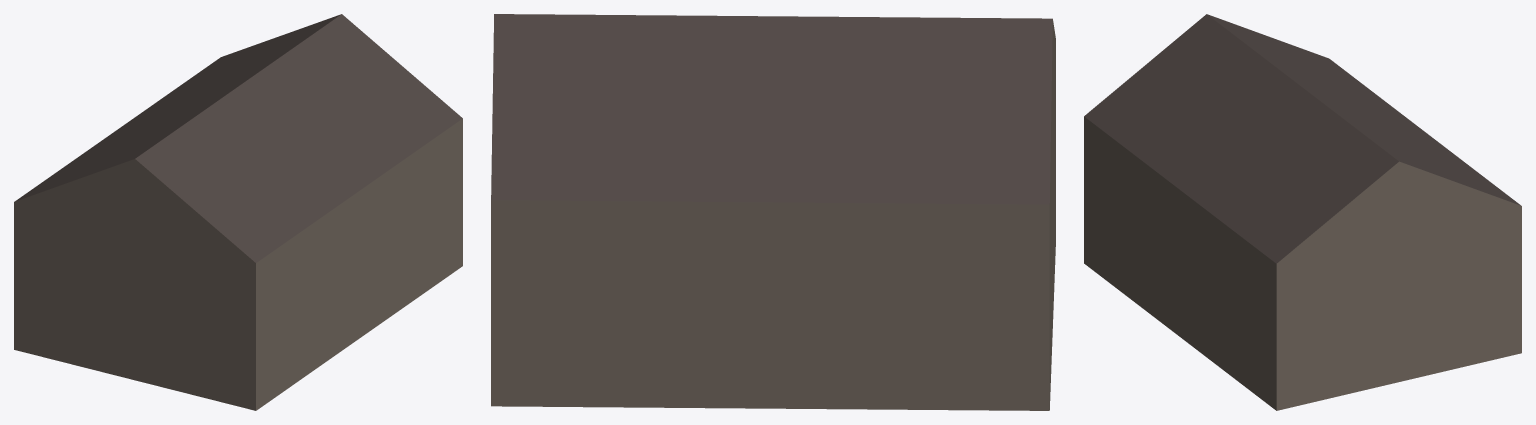
The picture shows the model from 3 angles, left to right: view 1: azimuth 30°, elevation 25°; view 2: azimuth 150°, elevation 25°; view 3: azimuth 270°, elevation 25°; orthographic projection. The views are drawn at different scales.
Parts seen in each view (by area): view 1: HP-w859088440; view 2: HP-w859088440; view 3: HP-w859088440.
Part boxes in pixels (bbox=[...]): HP-w859088440: bbox=[14, 14, 462, 410]; HP-w859088440: bbox=[491, 14, 1055, 410]; HP-w859088440: bbox=[1084, 14, 1521, 410].
Size of the model in its own units: 17.95 by 9 by 16.19.
